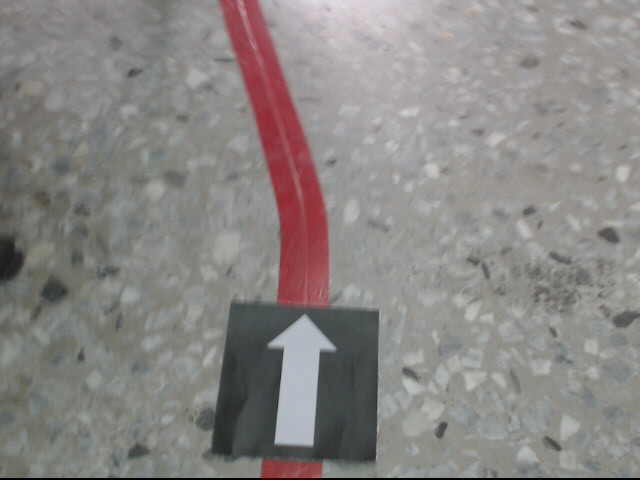straight: (210, 301, 381, 462)
